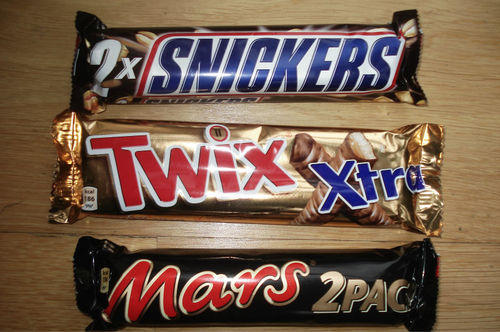snickers: (144, 34, 401, 93)
